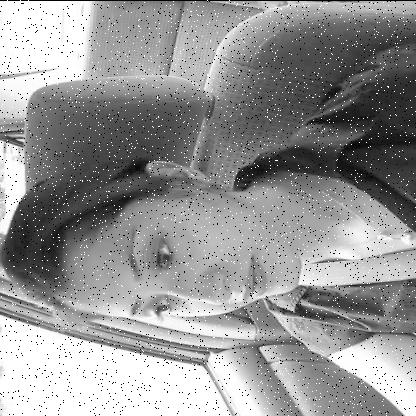seatbelt: (15, 146, 416, 350)
